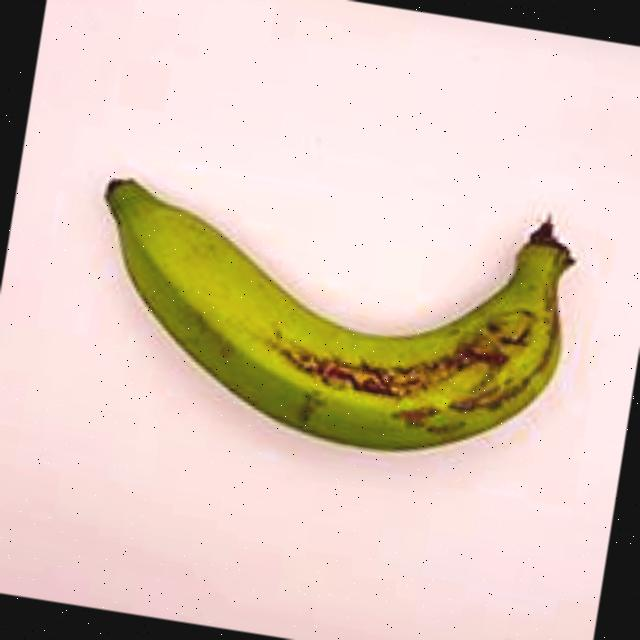Raw: (51, 112, 608, 509)
